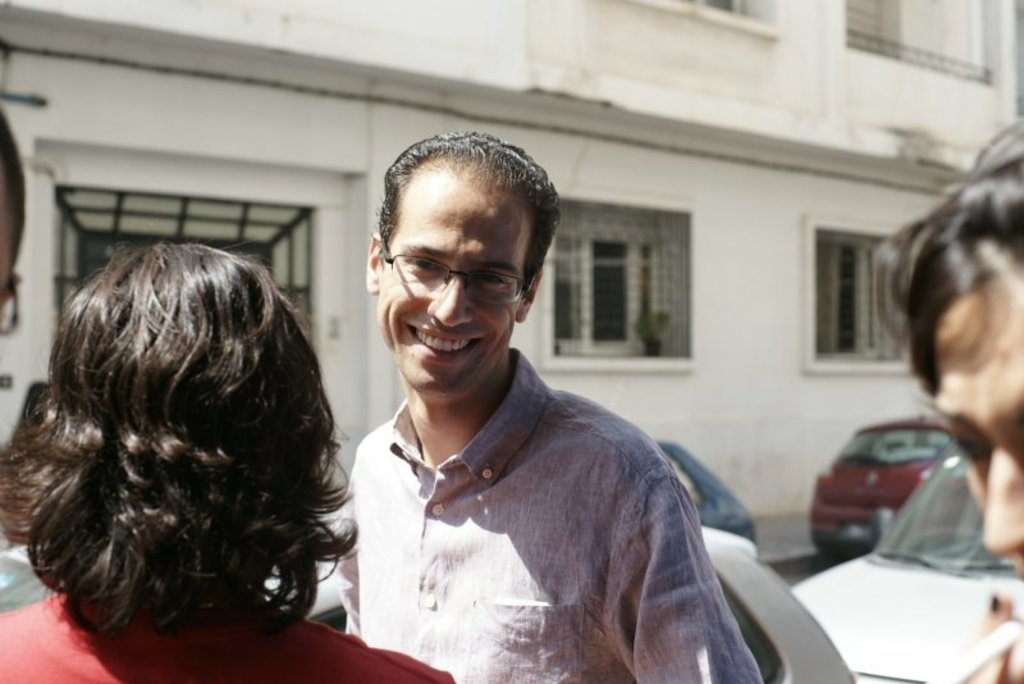Car: (801, 415, 988, 584), (664, 440, 755, 554)
